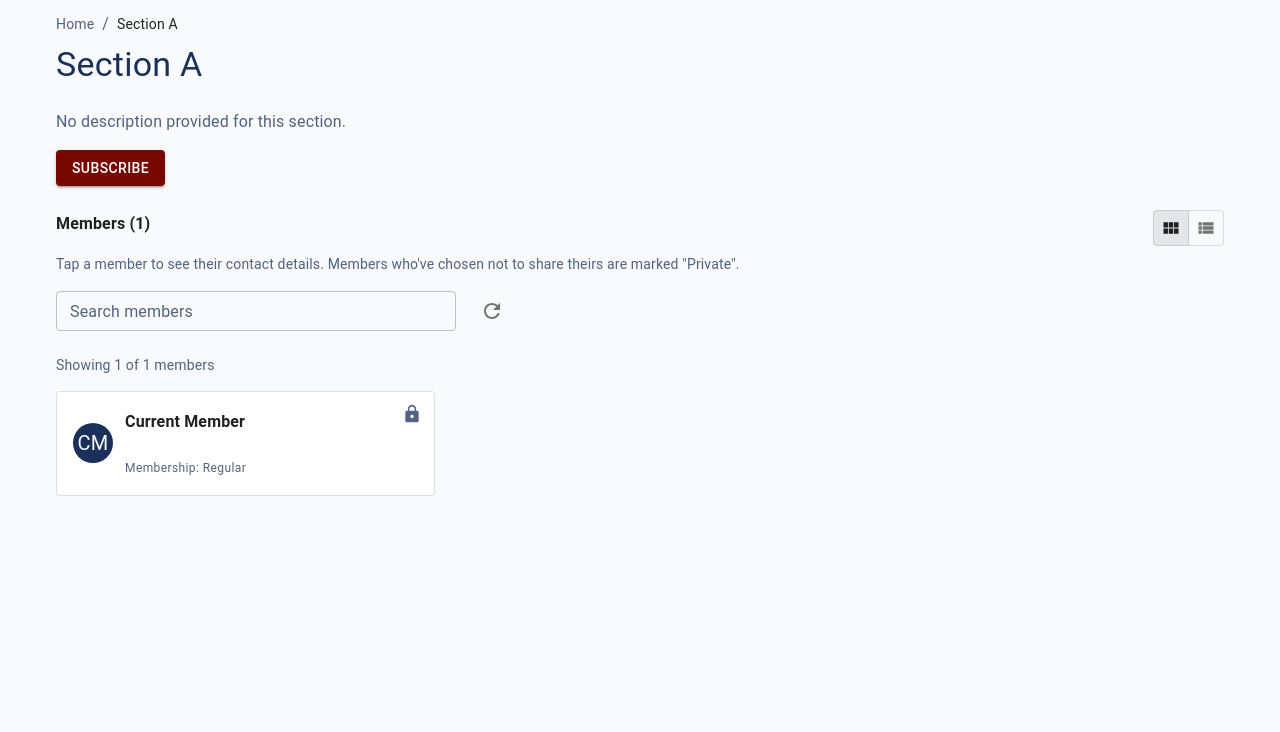
Test: SectionDetail authoritative read selection › retires related EVENTS summaries before a subscribe write whose response is lost, without replaying it
Expected: the heading "Current Member" is shown, [125,412,245,430]
Click the button "Subscribe".
click(111, 168)  # box [56,150,165,186]
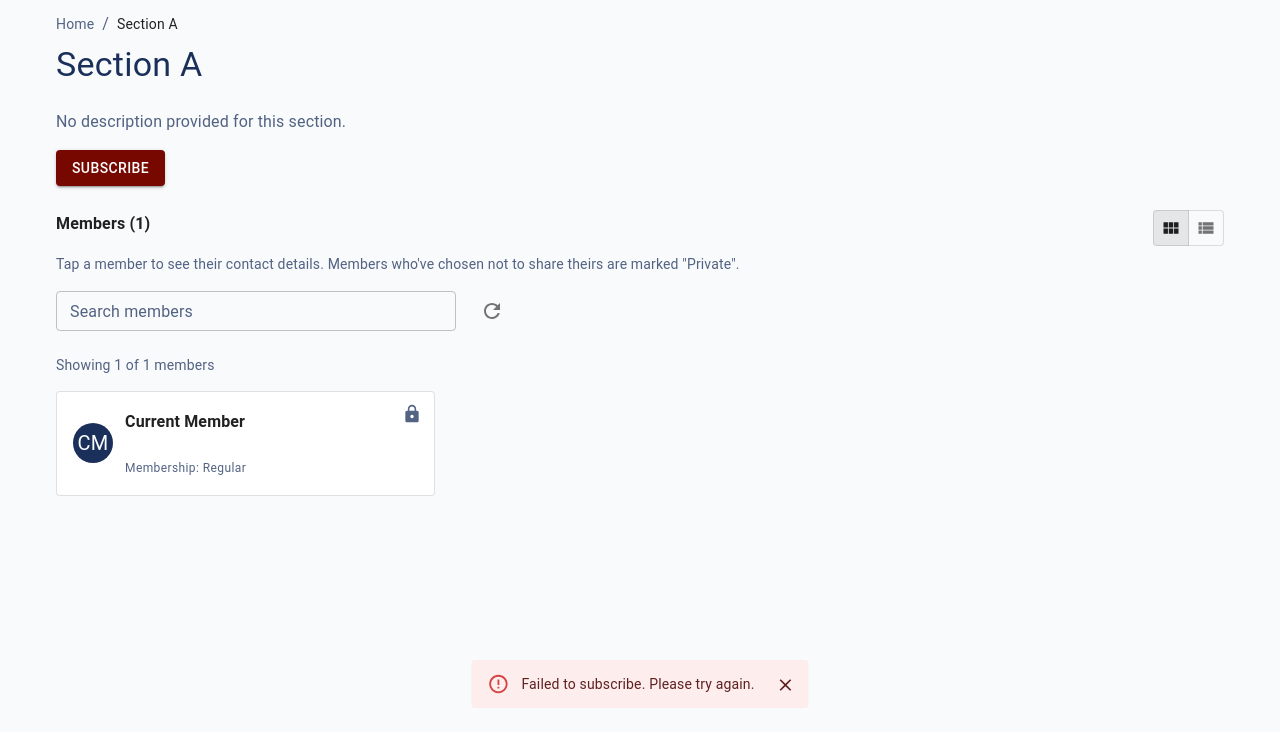
Now the text "Failed to subscribe. Please try again." is shown, box [521,676,754,692]
